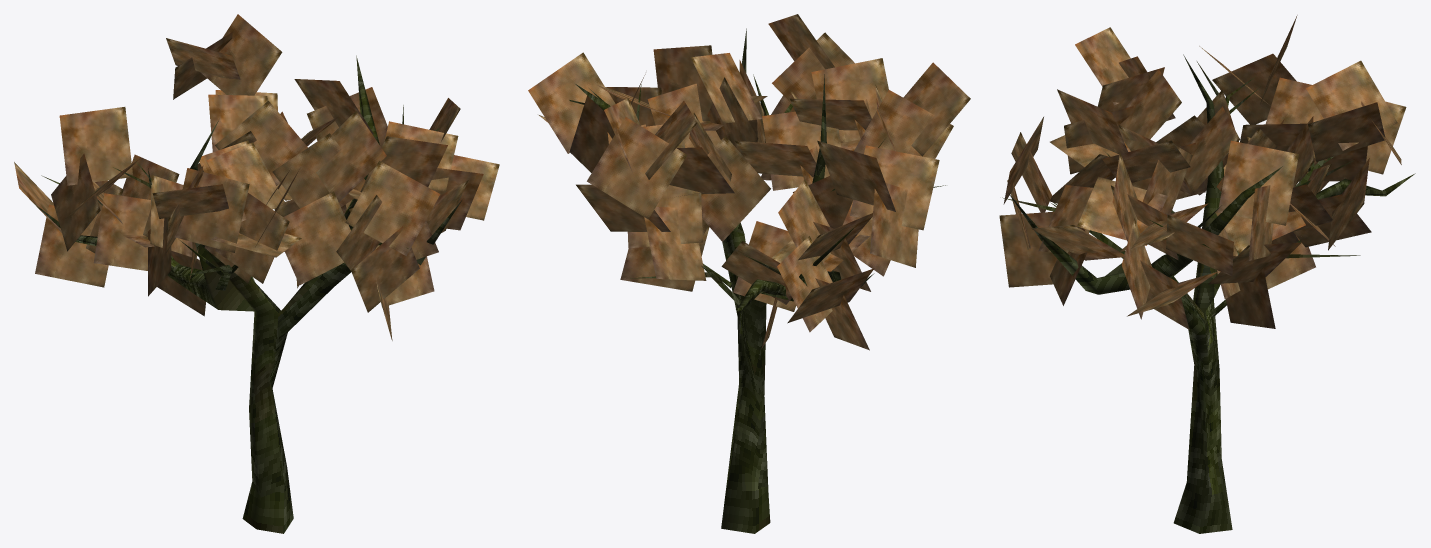
Rendered from Tree13.obj.
The picture shows the model from 3 angles, left to right: view 1: azimuth 30°, elevation 25°; view 2: azimuth 150°, elevation 25°; view 3: azimuth 270°, elevation 25°; orthographic projection. The views are drawn at different scales.
Visible parts, largest first — view 1: Mesh_0, Mesh_1; view 2: Mesh_0, Mesh_1; view 3: Mesh_0, Mesh_1.
Boxes of the visible parts, left/top/right/bottom form: Mesh_0: left=14, top=14, right=499, bottom=340; Mesh_1: left=34, top=55, right=461, bottom=533; Mesh_0: left=528, top=14, right=970, bottom=350; Mesh_1: left=569, top=28, right=945, bottom=533; Mesh_0: left=999, top=15, right=1406, bottom=329; Mesh_1: left=1002, top=54, right=1415, bottom=533.
Size of the model in its own units: 4.52 by 4.72 by 3.97.
2 materials, 2 textured.
